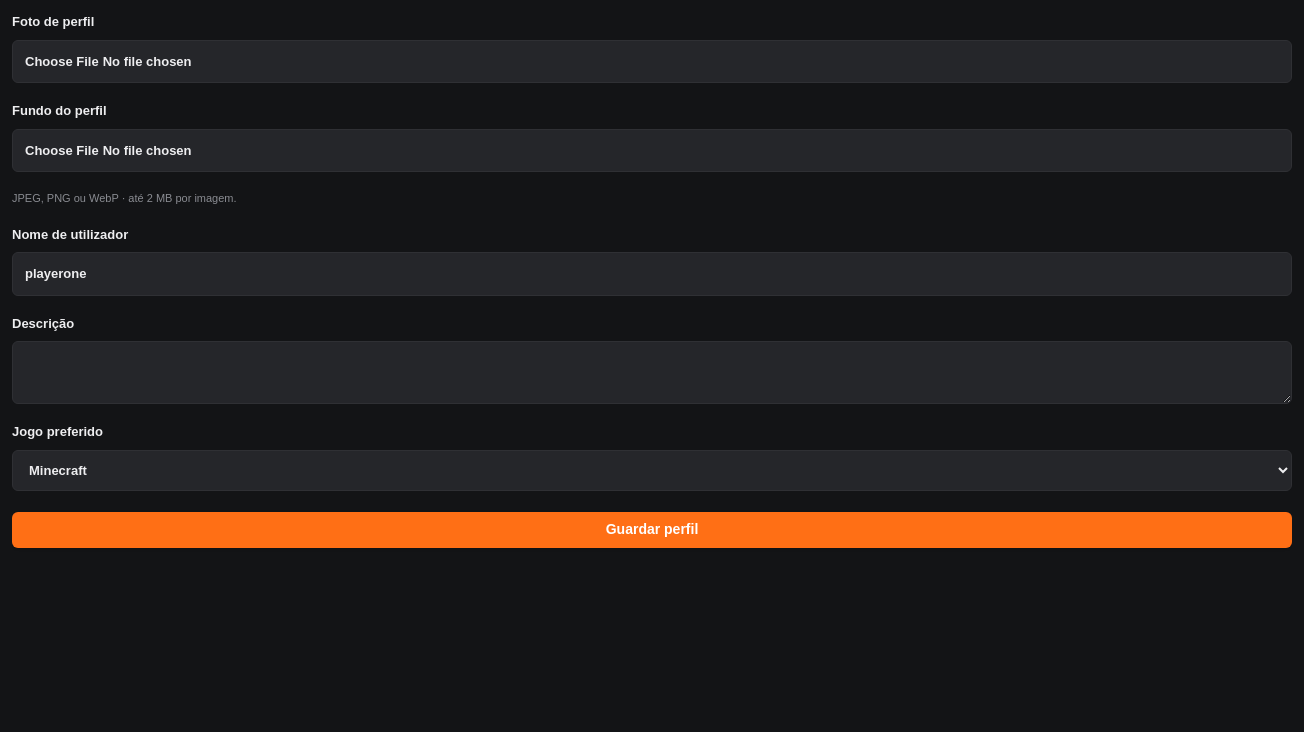
Scenario: shows a storage failure instead of pretending the profile was saved
Click the button "Guardar perfil": (652, 530) [12,512,1292,548]
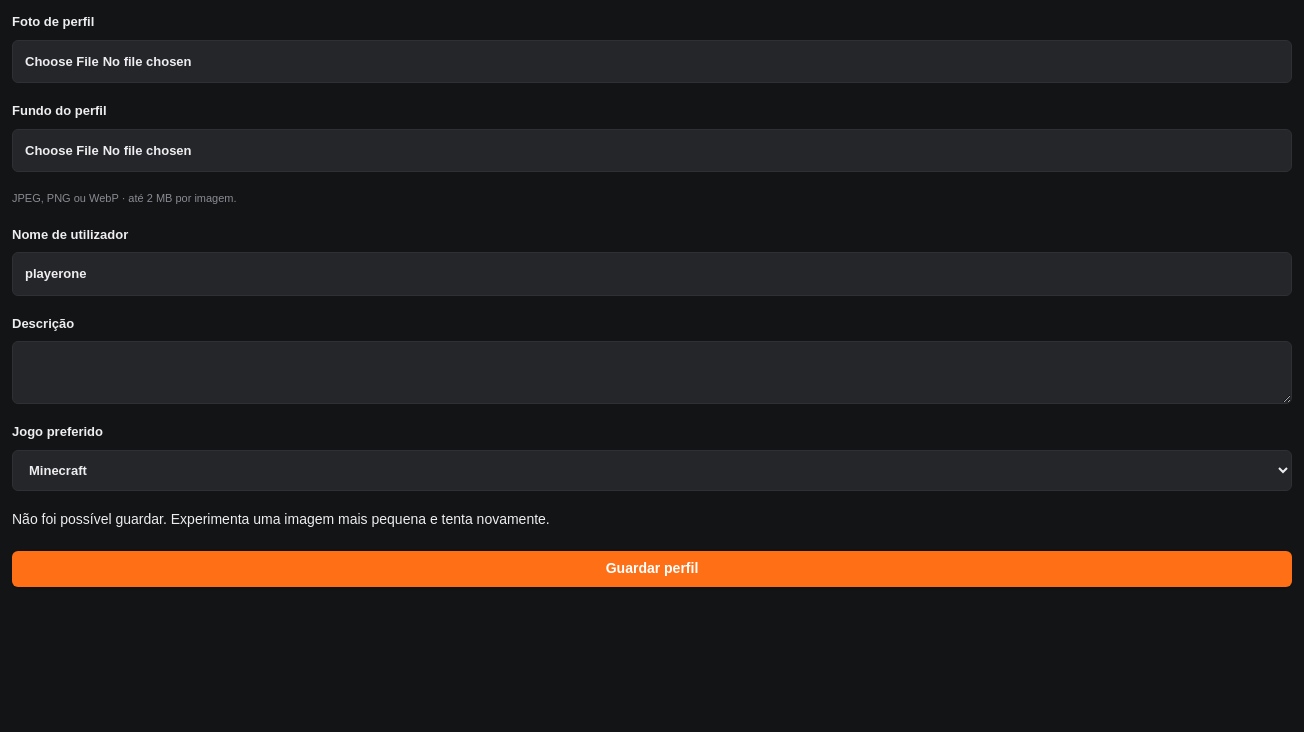
Now the message shows "Não foi possível guardar", box [12,510,550,526]
